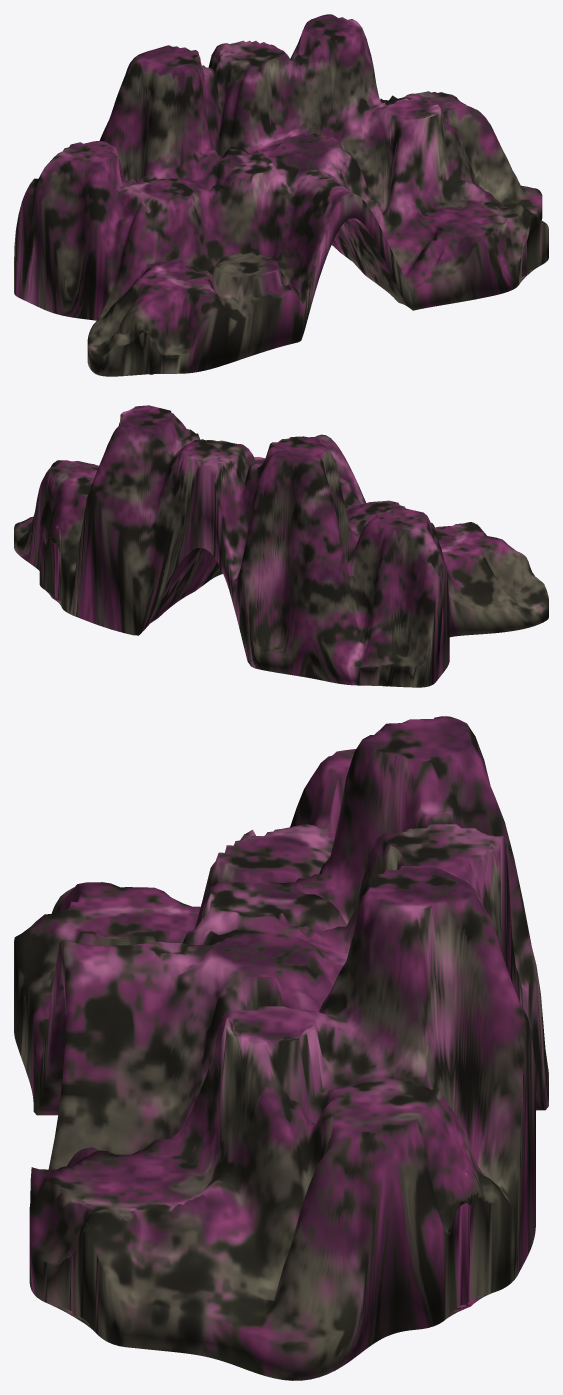
Rendered from live-rock-island-left.glb.
3 views of the same model, one above another, from view 1: azimuth 30°, elevation 25°; view 2: azimuth 150°, elevation 25°; view 3: azimuth 270°, elevation 25° (orthographic). The views are drawn at different scales.
Visible parts, largest first — view 1: Live_Rock_Island_Left; view 2: Live_Rock_Island_Left; view 3: Live_Rock_Island_Left.
Boxes of the visible parts, x1,y1,x2,y2 form: Live_Rock_Island_Left: [14, 14, 548, 376]; Live_Rock_Island_Left: [14, 405, 548, 687]; Live_Rock_Island_Left: [14, 716, 548, 1380].
Bounding box in the file's own units: 1.01 × 0.398 × 0.5368.
1 material, 1 textured.
